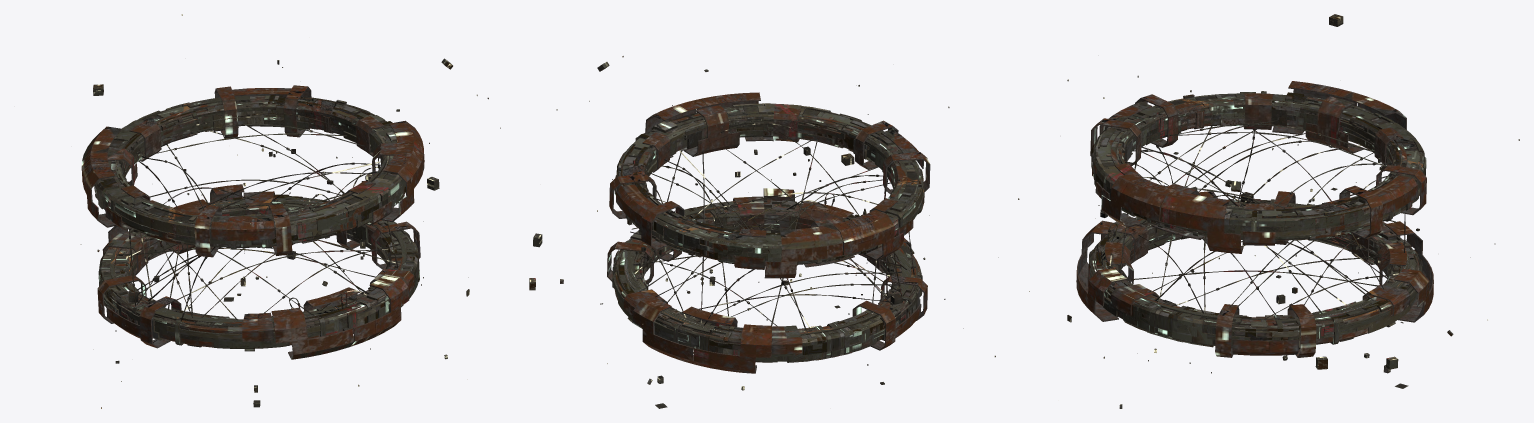
Rendered from World_Station.fbx.
3 renders of one model, left to right at view 1: azimuth 30°, elevation 25°; view 2: azimuth 150°, elevation 25°; view 3: azimuth 270°, elevation 25°, orthographic. The views are drawn at different scales.
Visible parts, largest first — view 1: World_Station; view 2: World_Station; view 3: World_Station.
Part boxes in pixels (left/top/right/bottom): World_Station: left=80, top=14, right=500, bottom=408; World_Station: left=529, top=56, right=1029, bottom=408; World_Station: left=1067, top=14, right=1519, bottom=408.
Size of the model in its own units: 64 by 39.85 by 57.97.
